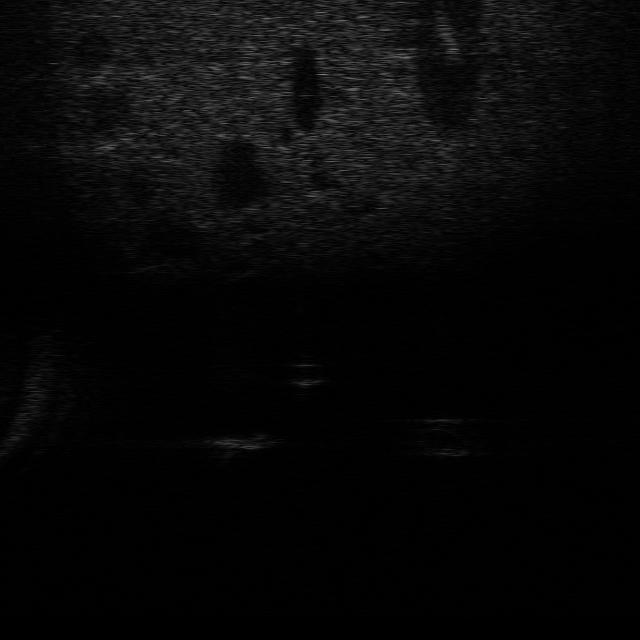ball: (279, 355, 331, 390)
square cage: (202, 424, 276, 461)
tyre: (404, 412, 478, 458)
